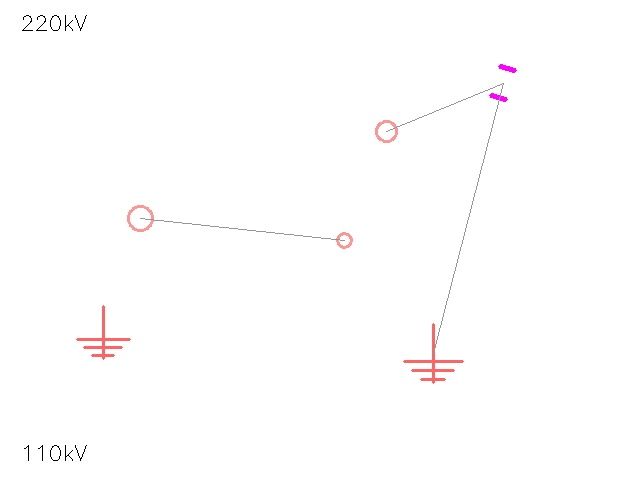capacitor: (478, 58, 528, 108)
feeder_terminal: (365, 110, 407, 152)
ground: (404, 324, 462, 382), (77, 306, 129, 358)
load_break_switch: (115, 193, 165, 243)
surge_arrester: (329, 225, 359, 255)
